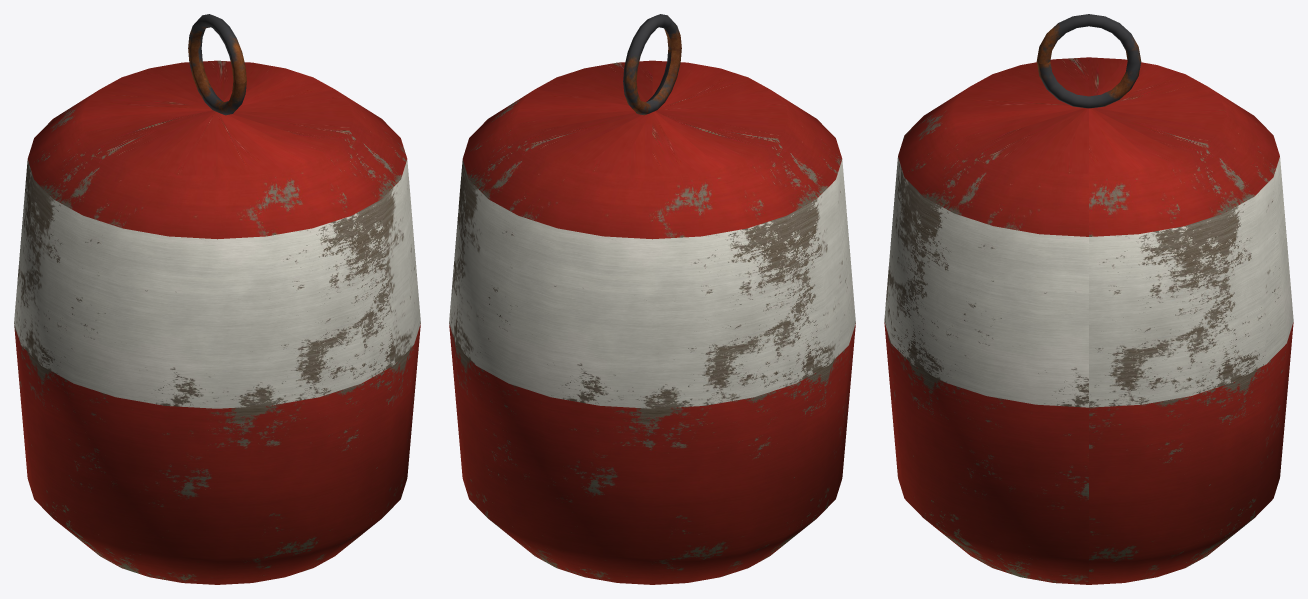
Rendered from mooring_buoy.glb.
The picture shows the model from 3 angles, left to right: view 1: azimuth 30°, elevation 25°; view 2: azimuth 150°, elevation 25°; view 3: azimuth 270°, elevation 25°; orthographic projection.
Parts seen in each view (by area): view 1: mooring_buoy; view 2: mooring_buoy; view 3: mooring_buoy.
Part boxes in pixels (bbox=[...]): mooring_buoy: bbox=[14, 14, 420, 584]; mooring_buoy: bbox=[449, 14, 855, 584]; mooring_buoy: bbox=[884, 14, 1293, 584].
Size of the model in its own units: 0.9 by 1.25 by 0.9.
Materials: 3 (3 with a texture image).
